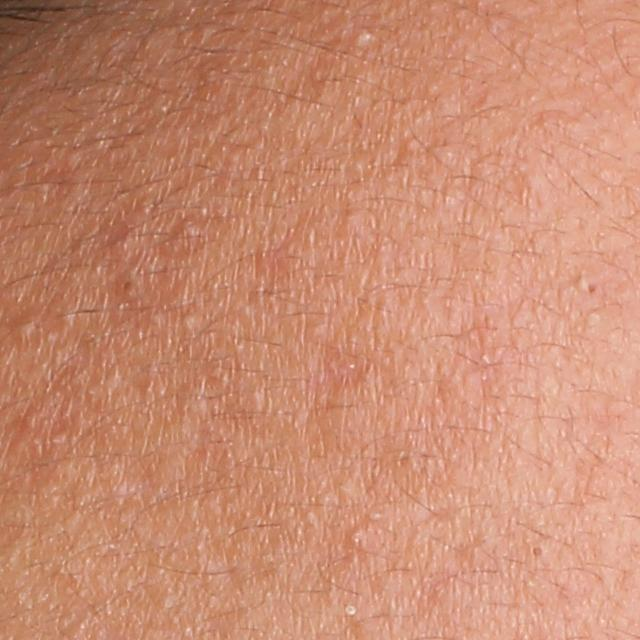comedo: (513, 164, 552, 198), (171, 209, 205, 237), (11, 309, 43, 338), (350, 23, 376, 56), (113, 276, 140, 300), (573, 276, 598, 298), (179, 310, 201, 330), (346, 531, 365, 550), (529, 540, 547, 560)
